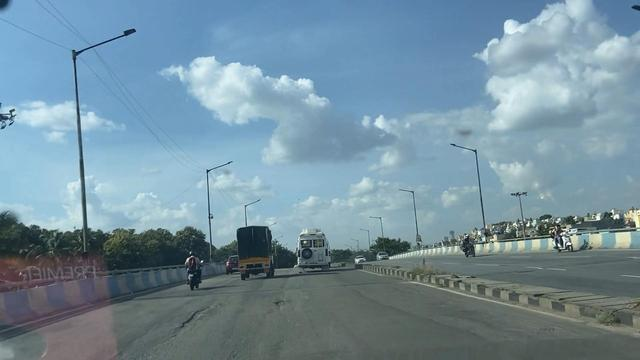HMV: (229, 229, 275, 281), (295, 226, 330, 272)
LMV: (183, 247, 209, 290)
RoadDamages: (164, 305, 235, 351), (267, 289, 303, 319)
